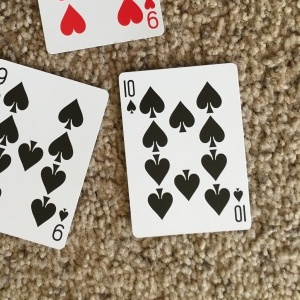card: (118, 63, 255, 237)
